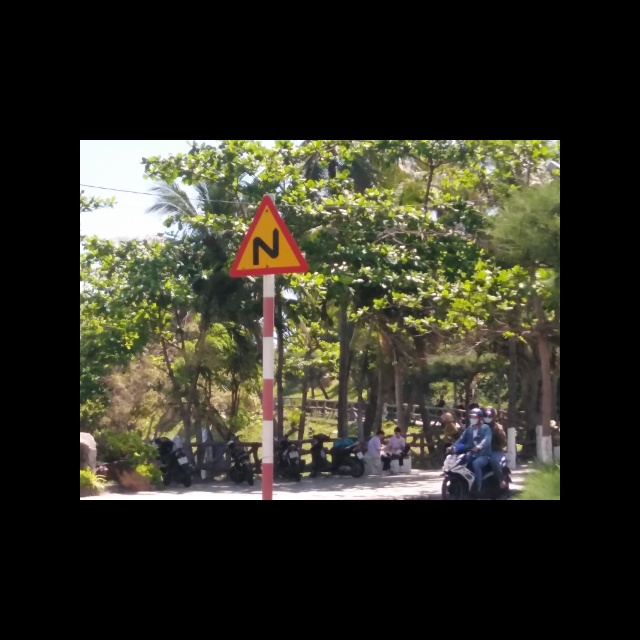Ngoặt nguy hiểm liên tiếp bên phải: (229, 195, 311, 280)
